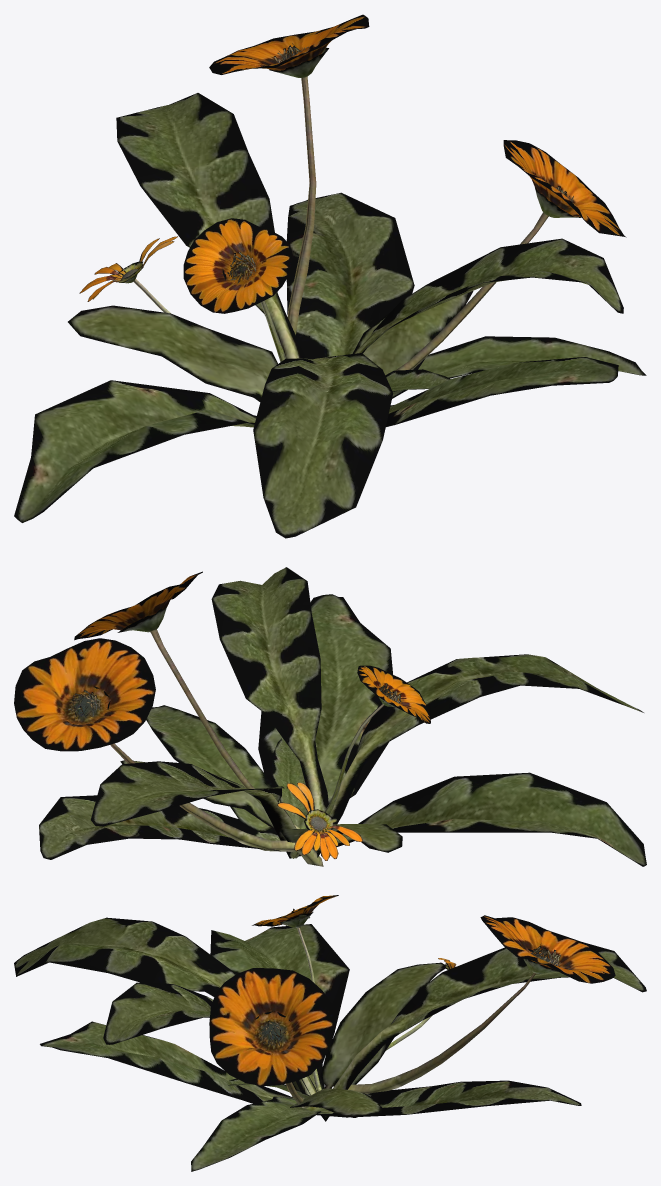
Rendered from flower.glb.
The picture shows the model from 3 angles, top to bottom: view 1: azimuth 30°, elevation 25°; view 2: azimuth 150°, elevation 25°; view 3: azimuth 270°, elevation 25°; orthographic projection. The views are drawn at different scales.
Parts seen in each view (by area): view 1: flower_gazania_g_LOD0; view 2: flower_gazania_g_LOD0; view 3: flower_gazania_g_LOD0.
Part boxes in pixels (left/top/right/bottom): flower_gazania_g_LOD0: left=14, top=14, right=646, bottom=538; flower_gazania_g_LOD0: left=14, top=567, right=646, bottom=866; flower_gazania_g_LOD0: left=14, top=895, right=646, bottom=1171.
Bounding box in the file's own units: 0.2694 × 0.1244 × 0.2884.
Materials: 1 (1 with a texture image).
